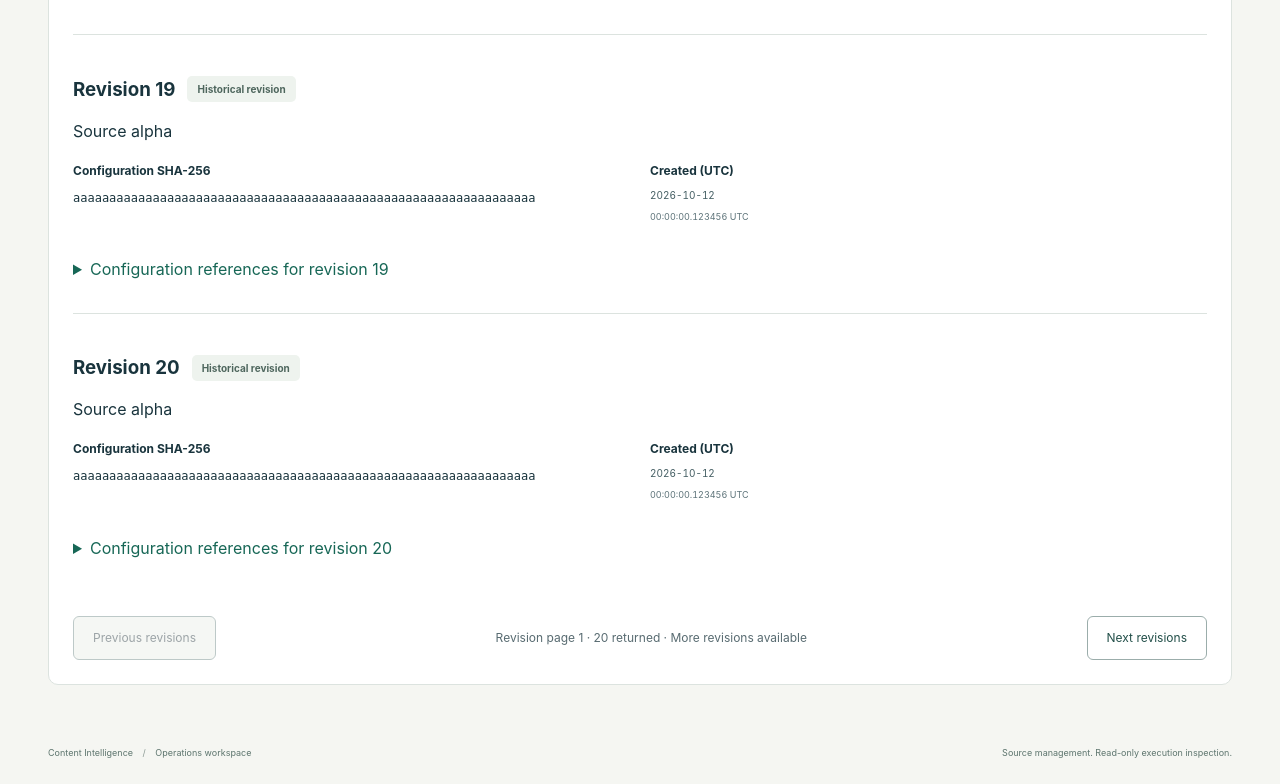
it: current source and independent immutable history › pages explicit 20-row high-water history forward/back and restarts on refresh
(page scrolled)
Click the button "Next revisions". click: point(1147, 638)
box: x1=1086 y1=616 x2=1207 y2=660
(page scrolled)
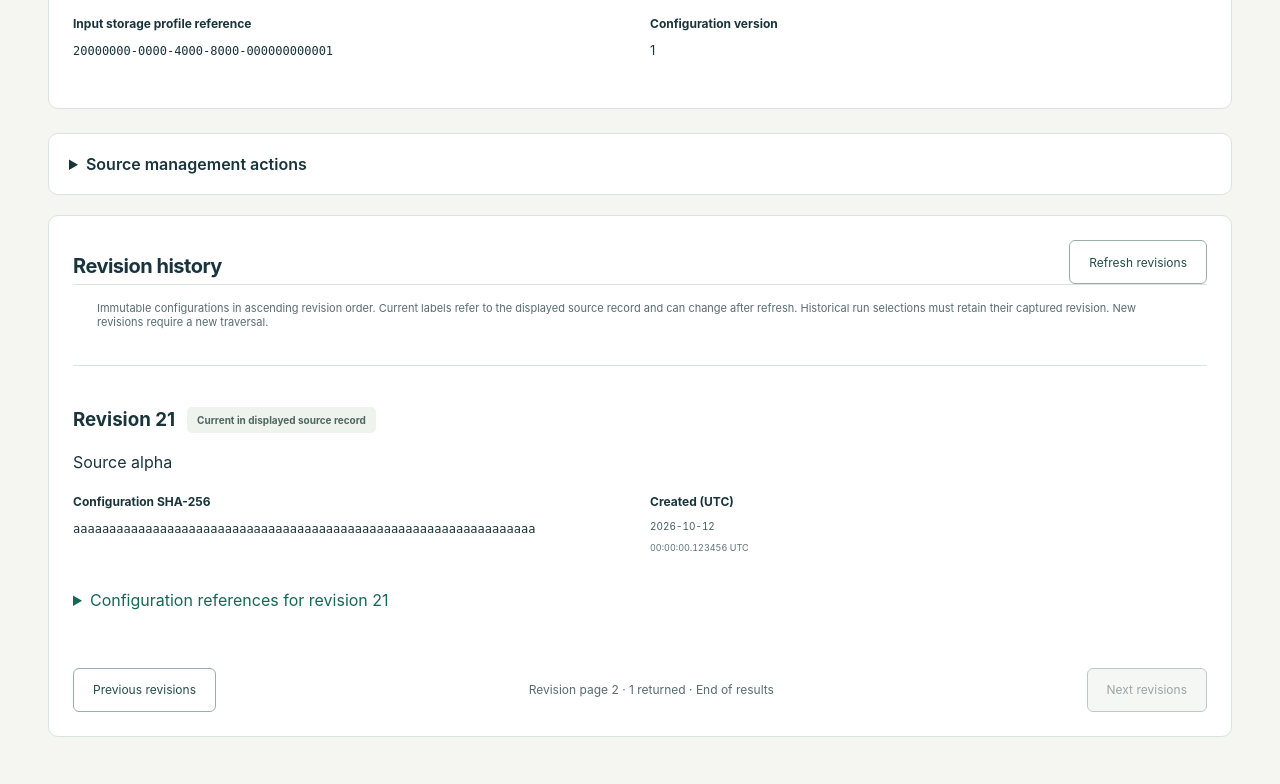
Result: the heading "Revision 21 Current in displayed source record" is shown at x1=73 y1=407 x2=376 y2=433
Click the button "Previous revisions". click: point(144, 690)
box: x1=73 y1=668 x2=216 y2=712
(page scrolled)
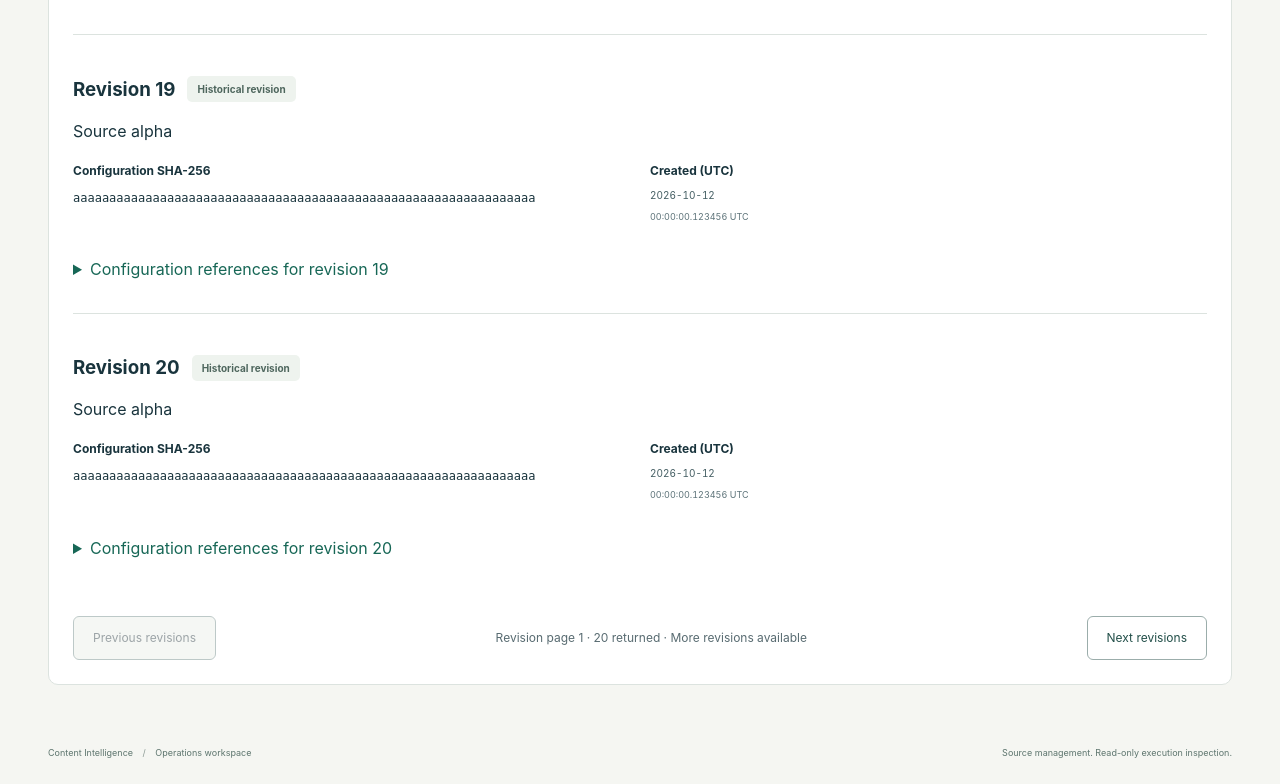
Click the button "Next revisions". click: point(1147, 638)
box: x1=1086 y1=616 x2=1207 y2=660
(page scrolled)
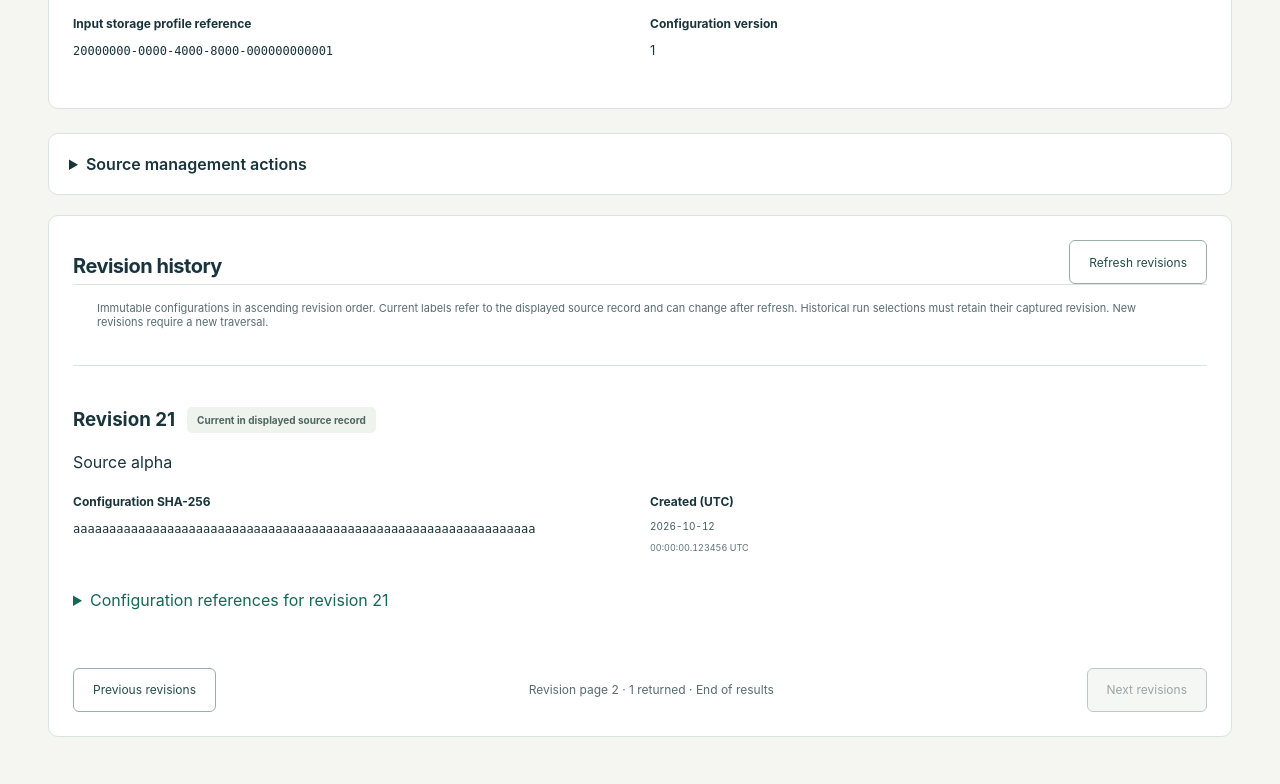
Result: the heading "Revision 21 Current in displayed source record" is shown at x1=73 y1=407 x2=376 y2=433
Click the button "Refresh revisions". click: point(1138, 262)
box: x1=1069 y1=240 x2=1207 y2=284
(page scrolled)
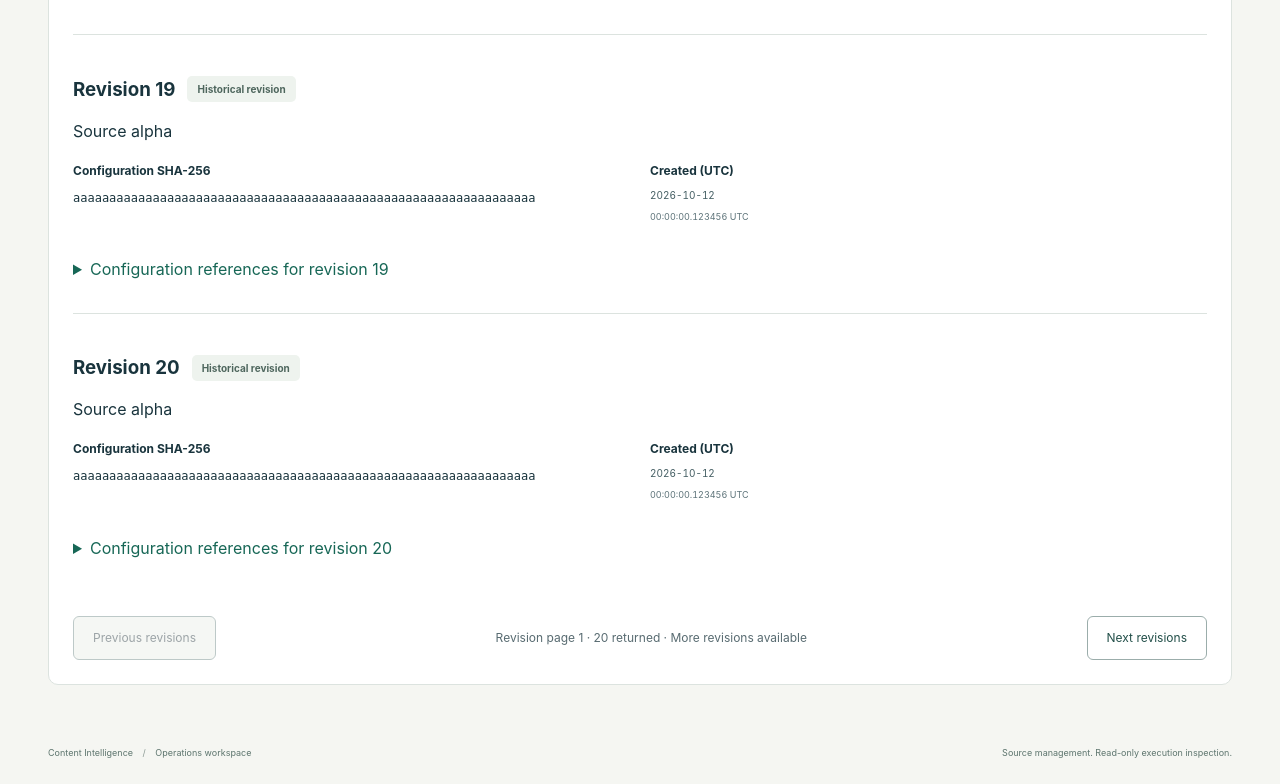
Result: the text "Revision page 1 · 20 returned · More revisions available" is shown at x1=496 y1=630 x2=807 y2=645
